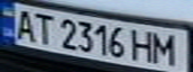1: (90, 21, 109, 56)
2: (54, 16, 78, 51)
3: (75, 19, 96, 54)
6: (109, 24, 130, 60)
A: (9, 7, 39, 42)
H: (127, 27, 157, 63)
M: (151, 29, 184, 65)
T: (30, 11, 57, 45)
